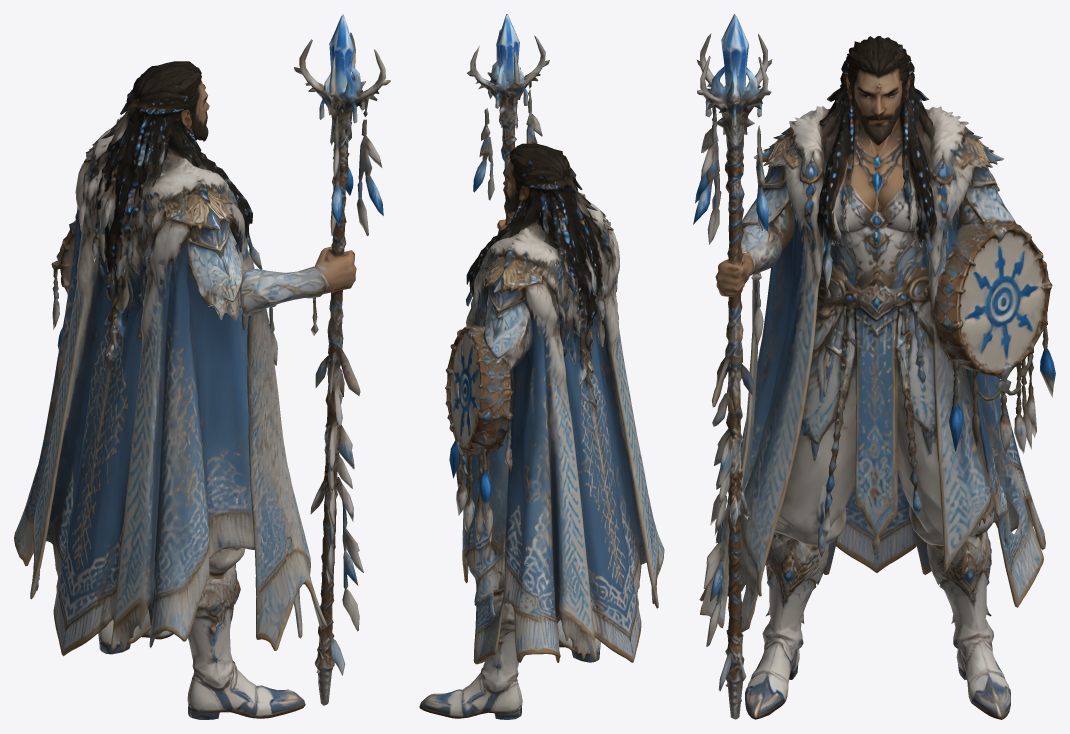
File: drumcalleralt_T9-tripo.glb
3 views of the same model, side by side, from view 1: azimuth 30°, elevation 25°; view 2: azimuth 150°, elevation 25°; view 3: azimuth 270°, elevation 25° (orthographic). The views are drawn at different scales.
Parts seen in each view (by area): view 1: tripo_node_8494c103-91e1-4601-b83d-e6c23cba2fd4; view 2: tripo_node_8494c103-91e1-4601-b83d-e6c23cba2fd4; view 3: tripo_node_8494c103-91e1-4601-b83d-e6c23cba2fd4.
Boxes of the visible parts, x1,y1,x2,y2 form: tripo_node_8494c103-91e1-4601-b83d-e6c23cba2fd4: (14,14,390,719); tripo_node_8494c103-91e1-4601-b83d-e6c23cba2fd4: (419,14,664,719); tripo_node_8494c103-91e1-4601-b83d-e6c23cba2fd4: (693,14,1055,719).
Bounding box in the file's own units: 0.3669 × 1 × 0.4564.
1 material, 1 textured.
